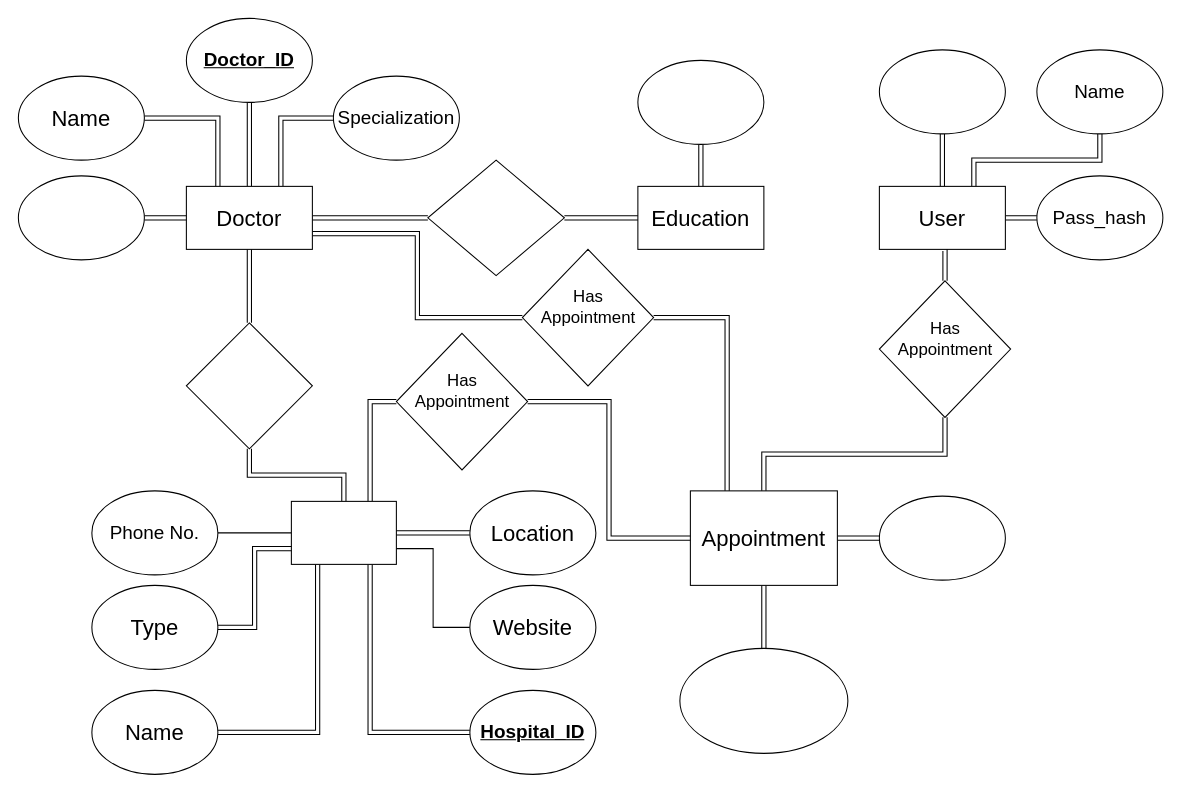
This 1181x793 diagram has some shape labels left out. The box of each missing label's shape, as (x1, y1, x2, y2) in pixels:
Appointment_ID: (679, 647, 848, 753)
Gender: (17, 175, 144, 260)
Hospital: (290, 500, 396, 564)
Practices In: (185, 322, 312, 449)
Qualification: (637, 59, 764, 144)
Qualified In: (427, 159, 564, 276)
Time: (878, 495, 1005, 580)
User_ID: (878, 49, 1005, 134)
